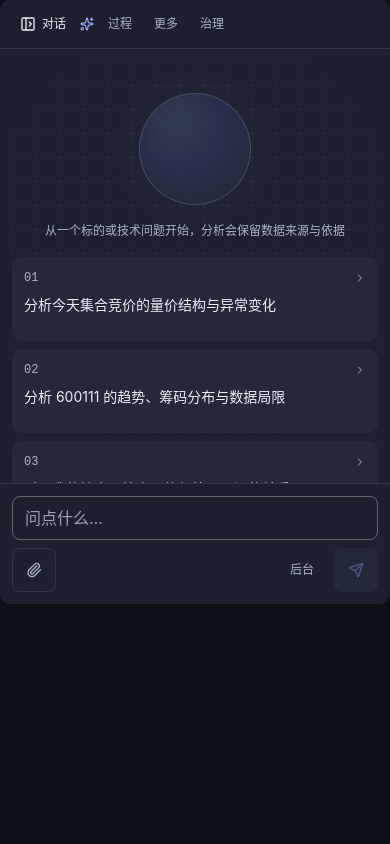
Scenario: 参谋页信息架构 › 手机会话面板可以展开和收回，关联按钮具有展开语义
This screenshot has width=390, height=844.
Click the button "对话".
click(43, 24)  # box [12, 6, 74, 42]
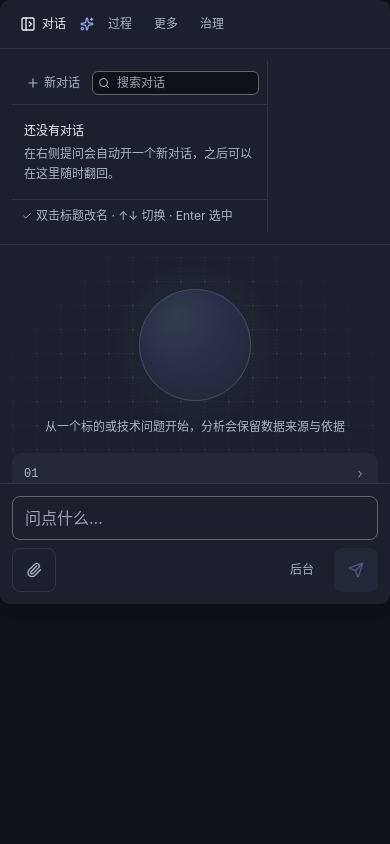
Result: the element with id "copilot-mobile-conversations" is shown at [0, 49, 389, 245]
Click the button "对话".
click(43, 24)  # box [12, 6, 74, 42]
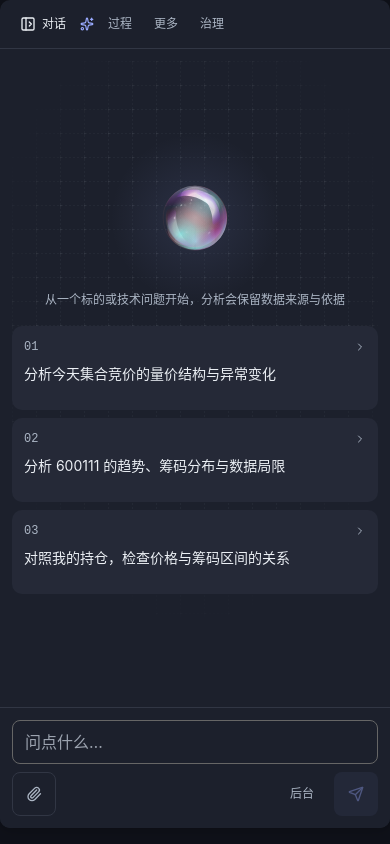
Result: the element with id "copilot-mobile-conversations" is gone
